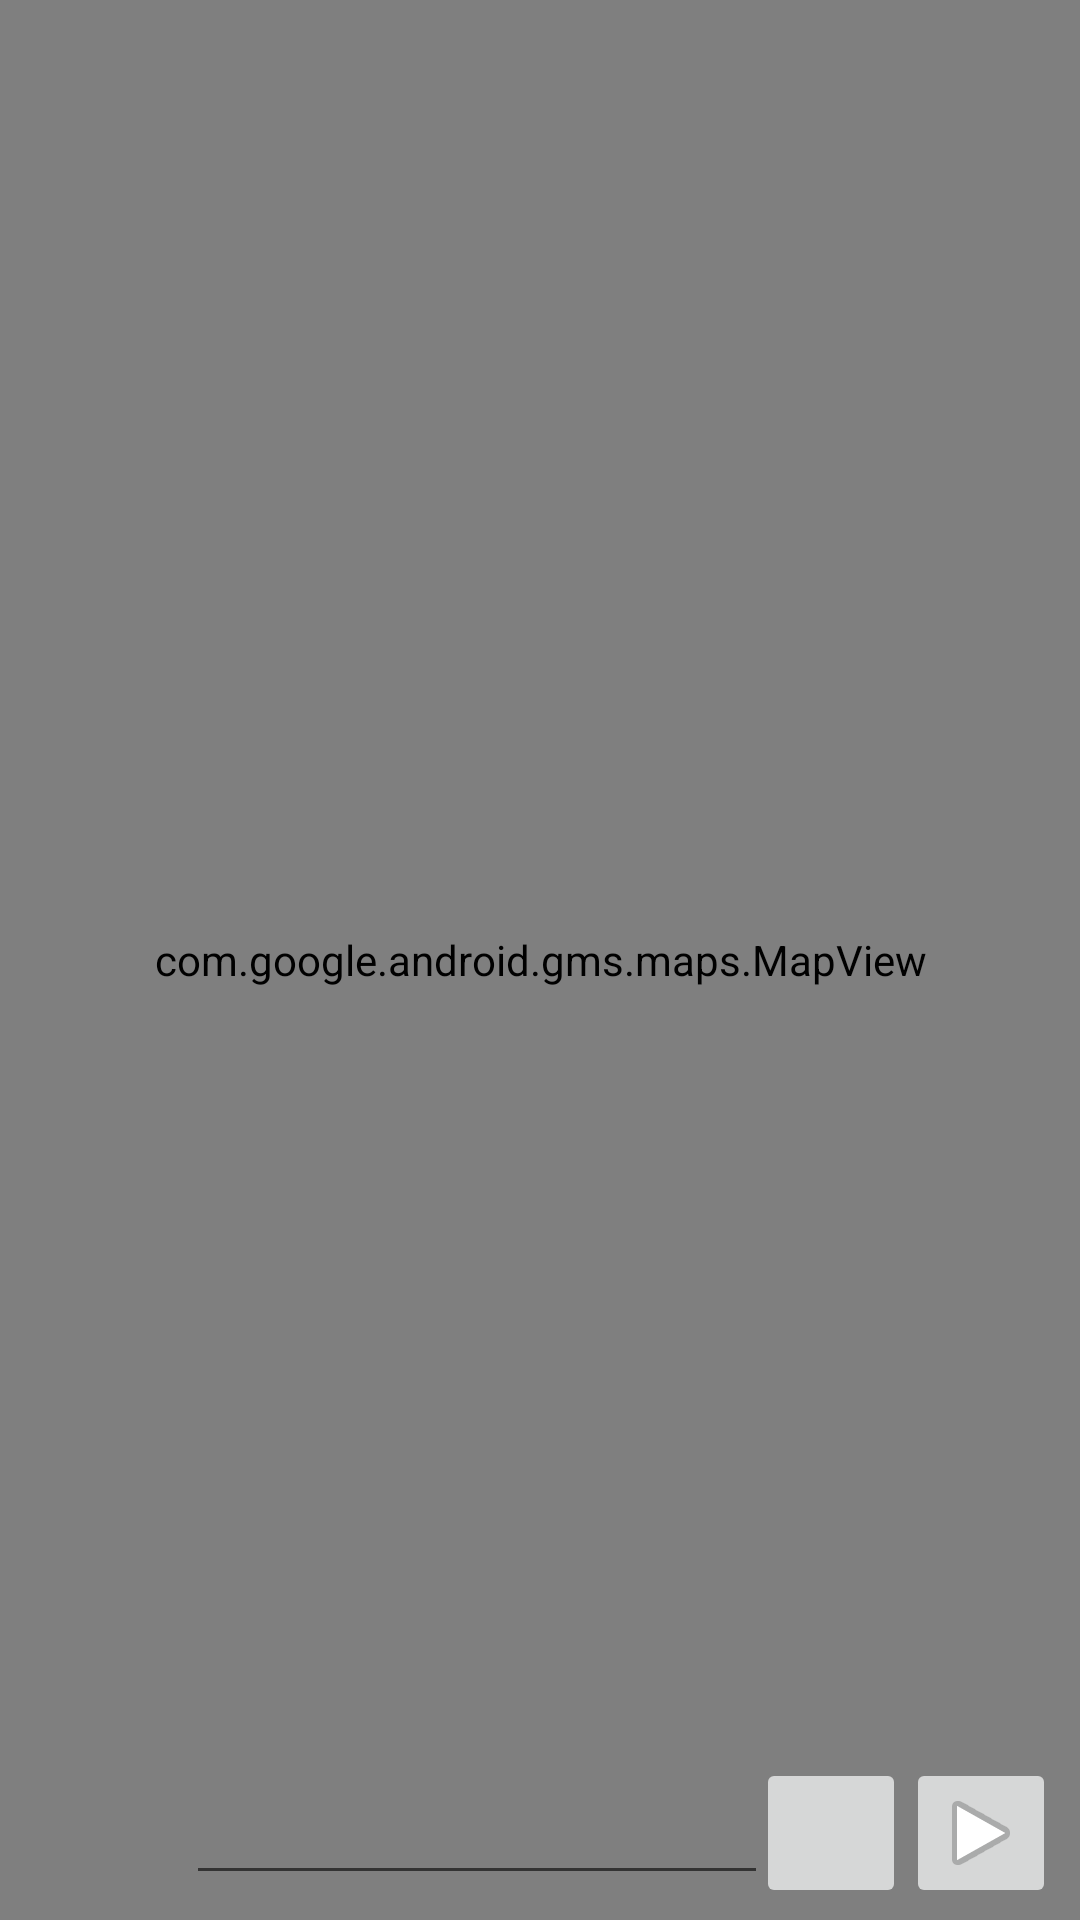

Icons on this 1080px x 1920px Android screen, each with the point to tap as (x,y):
play: (981,1833)
